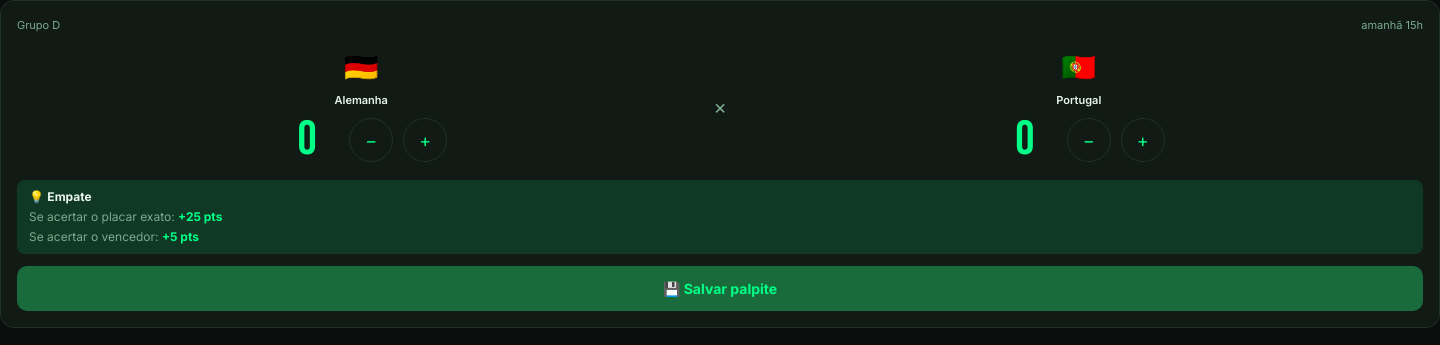
it: PlacarInput › identificado: confirma '✅ Salvo!' (servidor confirmou)
Click the button "+" below "Alemanha": (425, 140) [403,118,447,162]
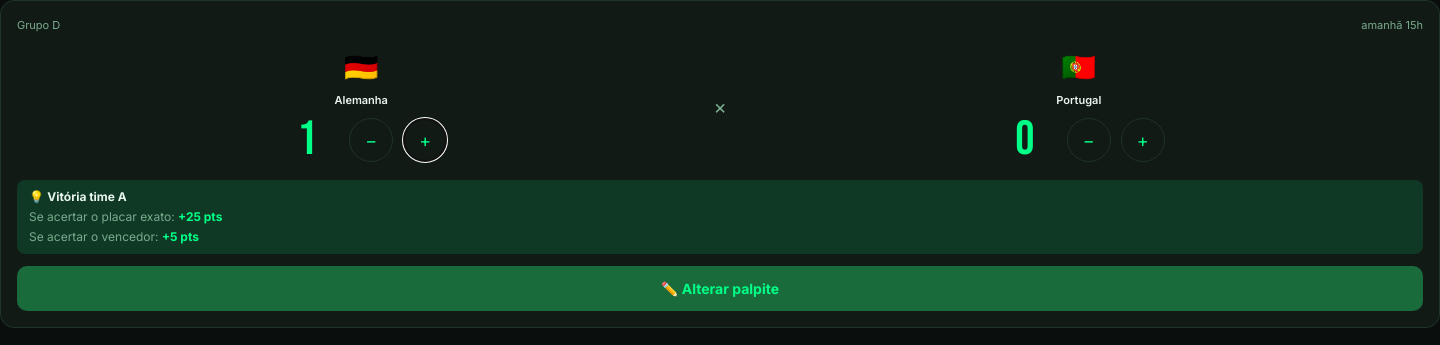
Click the button with aria-label "salvar palpite": (720, 288) [17,266,1423,311]
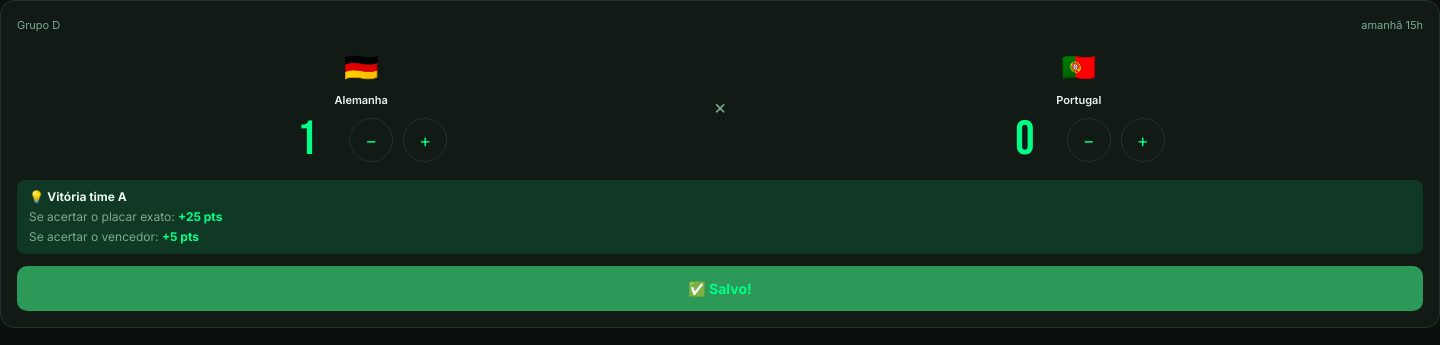
Check: the button "✅ Salvo!" is shown, box [17,266,1423,311]
